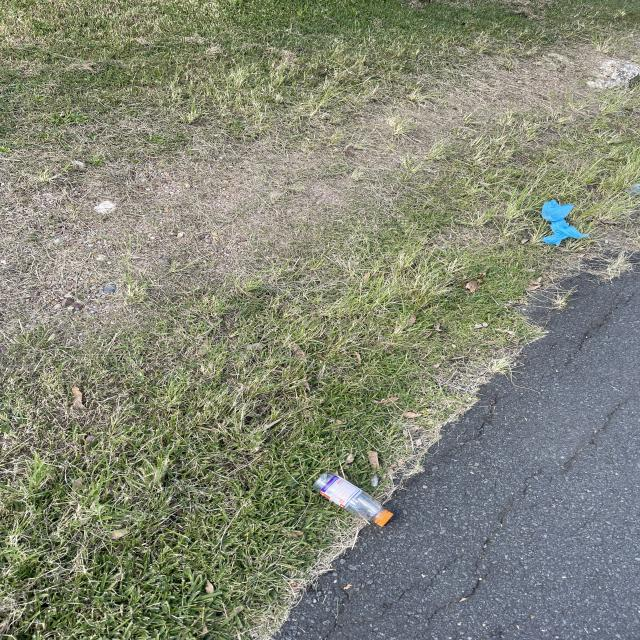bag: (539, 198, 593, 250)
bottle: (309, 470, 398, 530)
